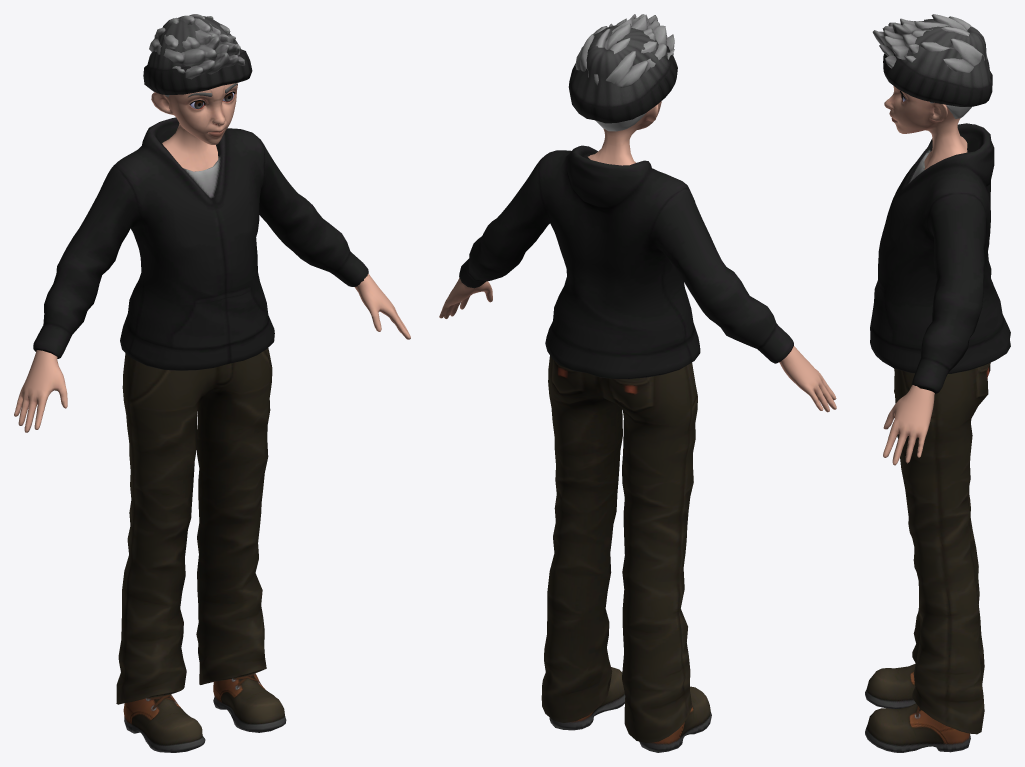
The model's file is Micky_Mesh.obj.
3 views of the same model, side by side, from view 1: azimuth 30°, elevation 25°; view 2: azimuth 150°, elevation 25°; view 3: azimuth 270°, elevation 25° (orthographic).
Parts seen in each view (by area): view 1: Micky_Mesh_0; view 2: Micky_Mesh_0; view 3: Micky_Mesh_0.
Part boxes in pixels (x1,y1,x2,y2): Micky_Mesh_0: [14, 14, 410, 752]; Micky_Mesh_0: [439, 14, 836, 752]; Micky_Mesh_0: [865, 14, 1010, 752].
Bounding box in the file's own units: 1.06 × 1.84 × 0.3453.
1 material, 1 textured.
